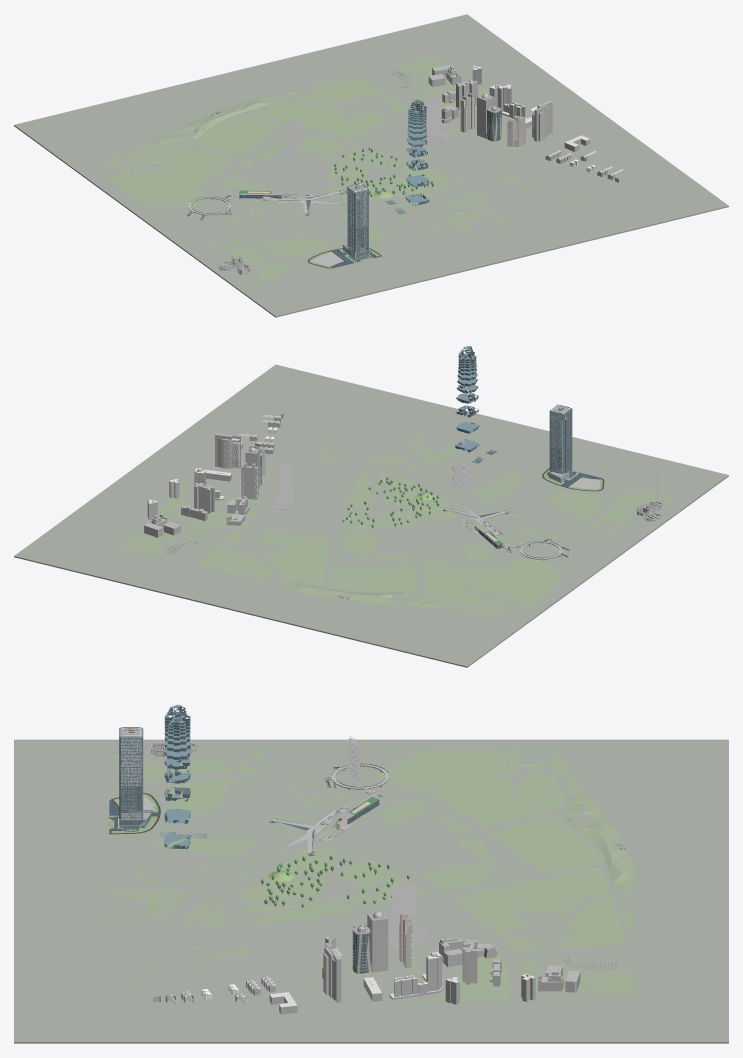
File: lujiazui-6.glb
3 renders of one model, top to bottom at view 1: azimuth 30°, elevation 25°; view 2: azimuth 150°, elevation 25°; view 3: azimuth 270°, elevation 25°, orthographic. The views are drawn at different scales.
Parts seen in each view (by area): view 1: experimental_ground_foundation_part0, source_4855_Mat3d66-1303573-2055-5153_part0, source_4862_Mat3d66-1303573-2178-3161_part0, source_3121_Mat3d66-1303573-2055-5153_part0, source_2994_Mat3d66-1303573-2120-8235_part0, source_2993_Mat3d66-1303573-2119-613_part0, source_3120_Mat3d66-1303573-2153-4388_part0, source_6210_房4_part0, source_6186_Mat3d66-1303573-557-8885_part0; view 2: experimental_ground_foundation_part0, source_4855_Mat3d66-1303573-2055-5153_part0, source_3121_Mat3d66-1303573-2055-5153_part0, source_4862_Mat3d66-1303573-2178-3161_part0, source_2994_Mat3d66-1303573-2120-8235_part0, source_2993_Mat3d66-1303573-2119-613_part0, source_3120_Mat3d66-1303573-2153-4388_part0, source_6210_房4_part0, source_6189_Mat3d66-1303573-560-2734_part0; view 3: experimental_ground_foundation_part0, source_4855_Mat3d66-1303573-2055-5153_part0, source_3121_Mat3d66-1303573-2055-5153_part0, source_4862_Mat3d66-1303573-2178-3161_part0, source_2994_Mat3d66-1303573-2120-8235_part0, source_6210_房4_part0, source_3120_Mat3d66-1303573-2153-4388_part0, source_2995_Mat3d66-1303573-2153-4388_part0, source_6268_Mat3d66-1303573-631-826_part0, source_6207_Mat3d66-1303573-11-3935_part0, source_6190_Mat3d66-1303573-561-717_part0, source_6186_Mat3d66-1303573-557-8885_part0 (+3 smaller).
Part boxes in pixels (left/top/right/bottom): experimental_ground_foundation_part0: left=14, top=14, right=728, bottom=317; source_4855_Mat3d66-1303573-2055-5153_part0: left=94, top=54, right=592, bottom=286; source_4862_Mat3d66-1303573-2178-3161_part0: left=385, top=99, right=429, bottom=214; source_3121_Mat3d66-1303573-2055-5153_part0: left=99, top=58, right=591, bottom=286; source_2994_Mat3d66-1303573-2120-8235_part0: left=345, top=183, right=369, bottom=258; source_2993_Mat3d66-1303573-2119-613_part0: left=342, top=185, right=369, bottom=259; source_3120_Mat3d66-1303573-2153-4388_part0: left=424, top=96, right=451, bottom=145; source_6210_房4_part0: left=472, top=66, right=590, bottom=151; source_6186_Mat3d66-1303573-557-8885_part0: left=545, top=150, right=622, bottom=182; experimental_ground_foundation_part0: left=14, top=364, right=728, bottom=667; source_4855_Mat3d66-1303573-2055-5153_part0: left=110, top=418, right=677, bottom=615; source_3121_Mat3d66-1303573-2055-5153_part0: left=123, top=417, right=667, bottom=614; source_4862_Mat3d66-1303573-2178-3161_part0: left=455, top=346, right=497, bottom=463; source_2994_Mat3d66-1303573-2120-8235_part0: left=549, top=404, right=572, bottom=480; source_2993_Mat3d66-1303573-2119-613_part0: left=548, top=409, right=572, bottom=482; source_3120_Mat3d66-1303573-2153-4388_part0: left=274, top=464, right=294, bottom=513; source_6210_房4_part0: left=147, top=443, right=242, bottom=519; source_6189_Mat3d66-1303573-560-2734_part0: left=194, top=482, right=214, bottom=513; experimental_ground_foundation_part0: left=14, top=739, right=728, bottom=1043; source_4855_Mat3d66-1303573-2055-5153_part0: left=109, top=749, right=633, bottom=1001; source_3121_Mat3d66-1303573-2055-5153_part0: left=109, top=749, right=633, bottom=1001; source_4862_Mat3d66-1303573-2178-3161_part0: left=159, top=704, right=206, bottom=848; source_2994_Mat3d66-1303573-2120-8235_part0: left=119, top=727, right=151, bottom=827; source_6210_房4_part0: left=269, top=976, right=535, bottom=1014; source_3120_Mat3d66-1303573-2153-4388_part0: left=388, top=881, right=430, bottom=948; source_2995_Mat3d66-1303573-2153-4388_part0: left=120, top=728, right=150, bottom=819; source_6268_Mat3d66-1303573-631-826_part0: left=367, top=911, right=388, bottom=972; source_6207_Mat3d66-1303573-11-3935_part0: left=270, top=951, right=535, bottom=1007; source_6190_Mat3d66-1303573-561-717_part0: left=203, top=938, right=580, bottom=997; source_6186_Mat3d66-1303573-557-8885_part0: left=153, top=976, right=275, bottom=1005.
Size of the model in its own units: 1500 by 409 by 1500.
